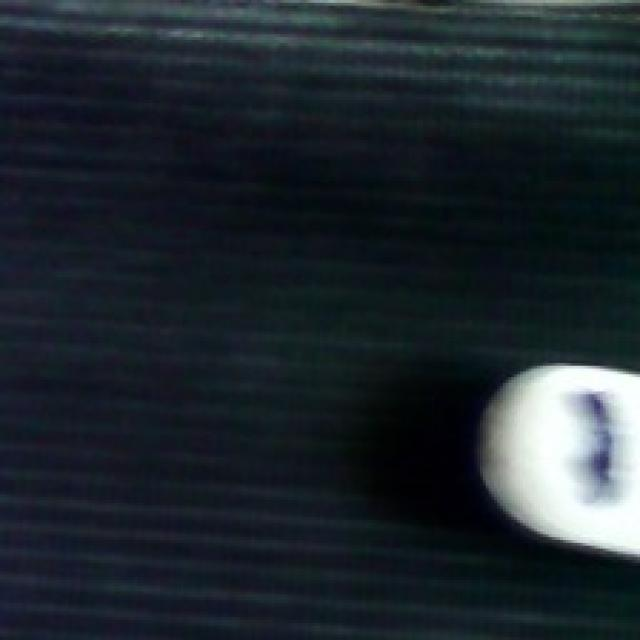defected: (466, 360, 637, 569)
